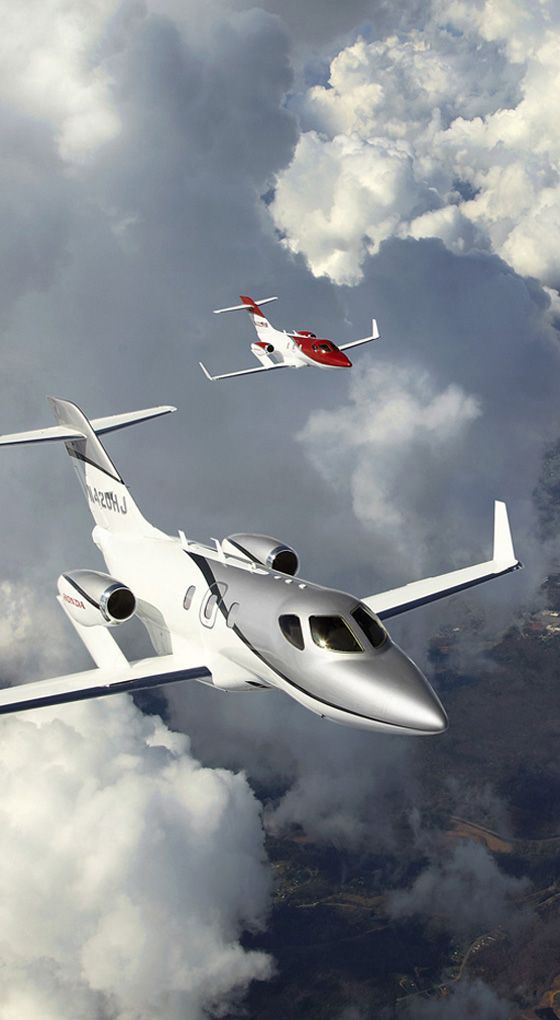Aeronef_commercial: (1, 383, 530, 745), (187, 282, 400, 394)
